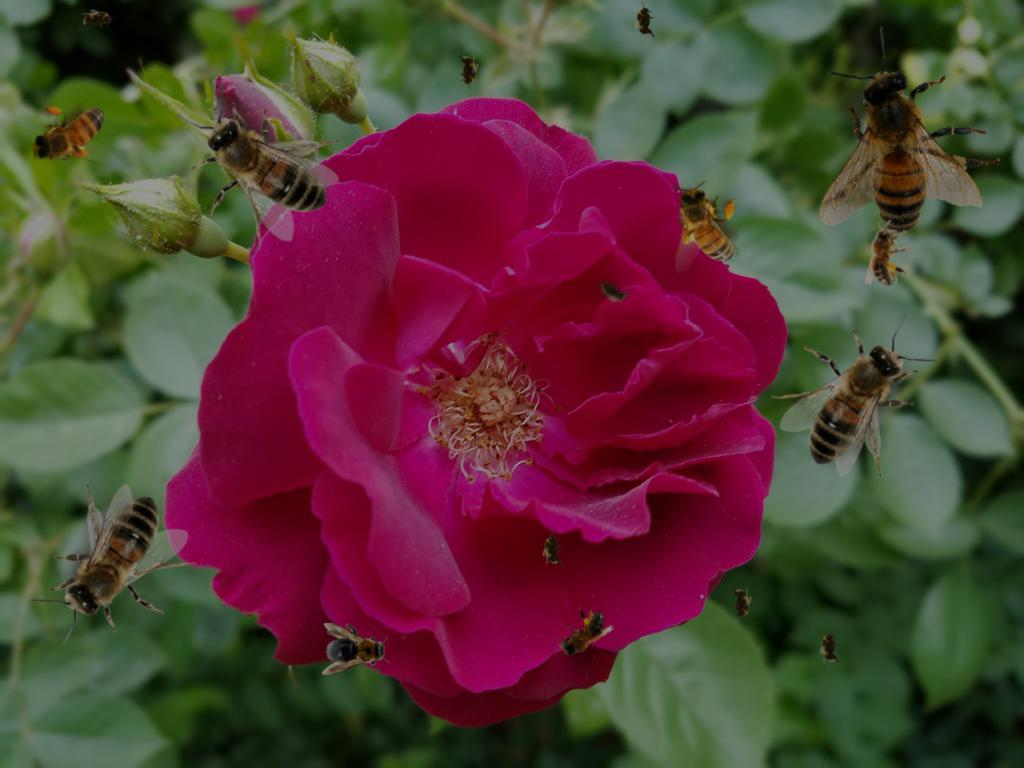Bee: (765, 12, 1024, 284), (30, 484, 197, 646), (177, 83, 339, 250), (771, 315, 938, 477), (25, 101, 118, 169), (671, 181, 739, 274), (539, 595, 619, 674), (322, 623, 390, 675), (865, 220, 910, 286), (590, 271, 636, 311), (78, 9, 118, 31), (542, 529, 564, 569), (730, 584, 752, 624), (634, 1, 656, 41), (457, 51, 479, 91), (819, 627, 841, 667)
